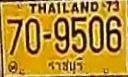0: (24, 18, 40, 54), (88, 15, 103, 52)
5: (70, 16, 86, 53)
6: (106, 15, 120, 51)
7: (6, 18, 22, 54)
9: (54, 16, 69, 52)
RBR: (46, 56, 86, 75)
